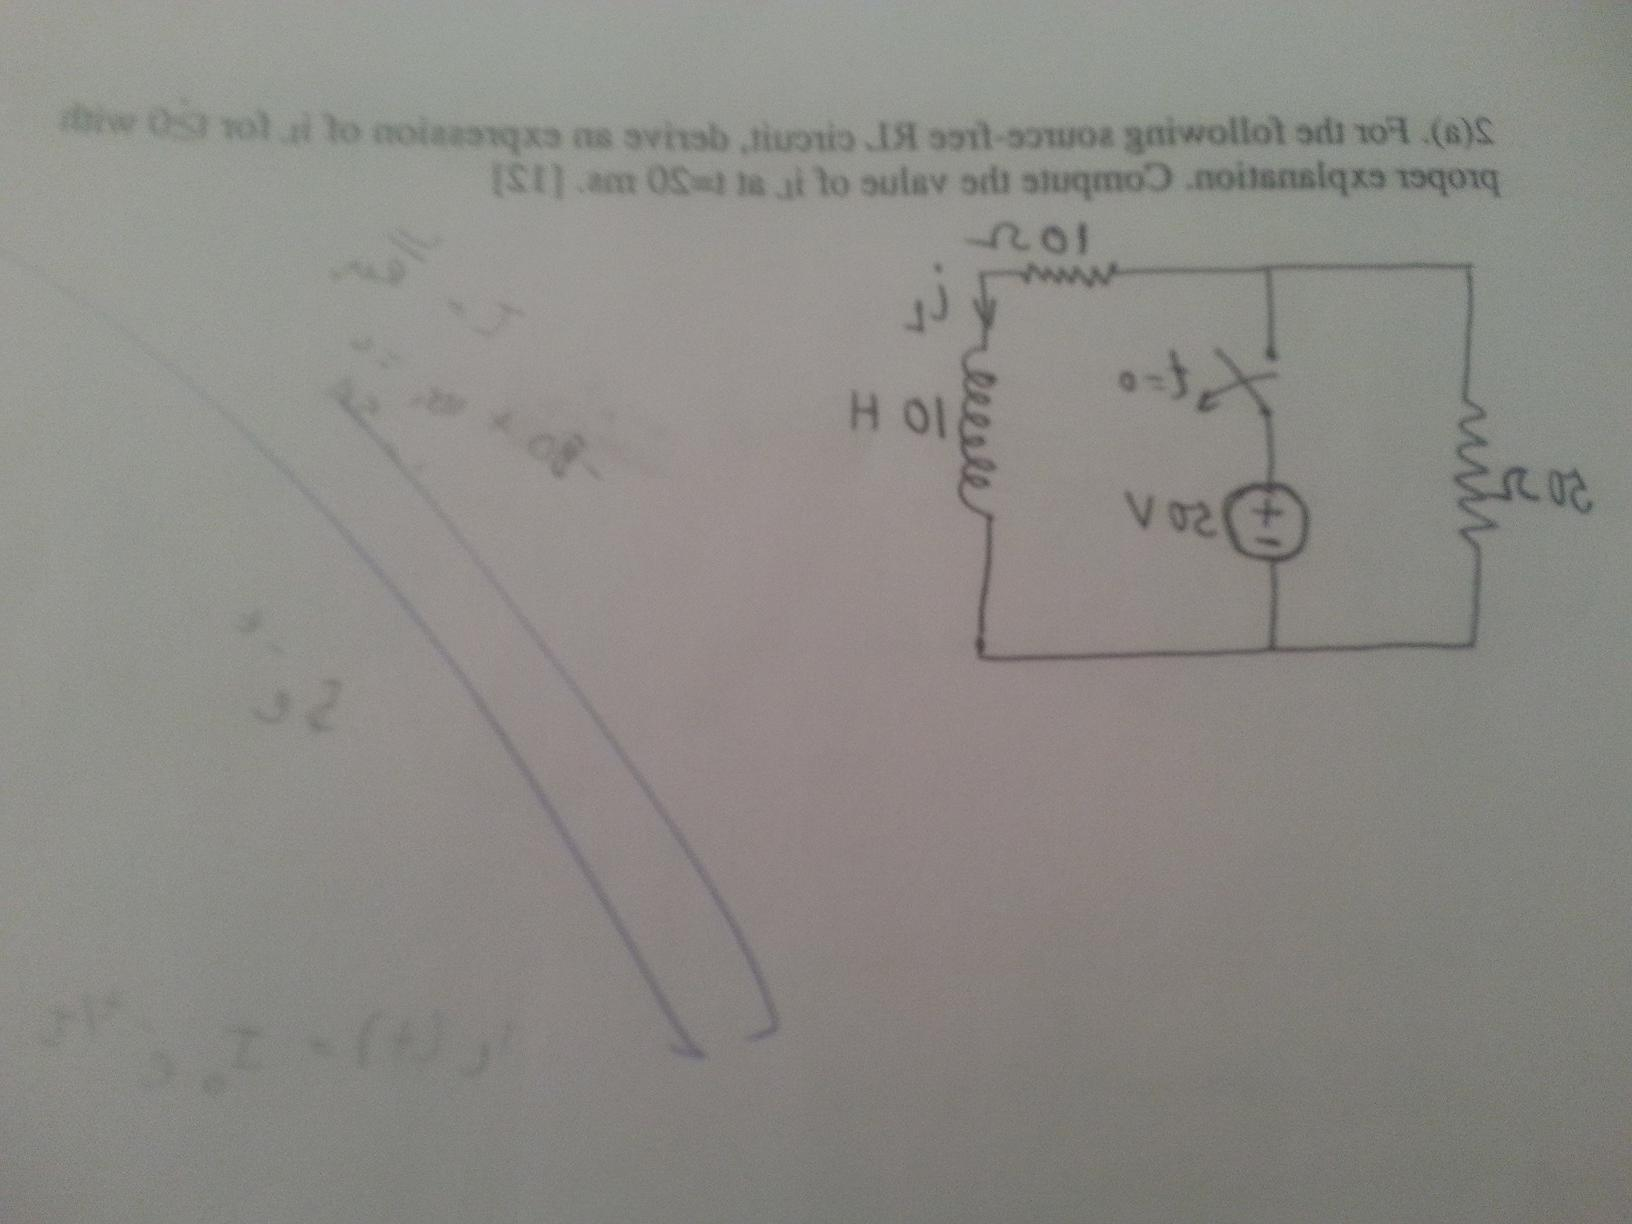Battery: (1209, 467, 1322, 586)
